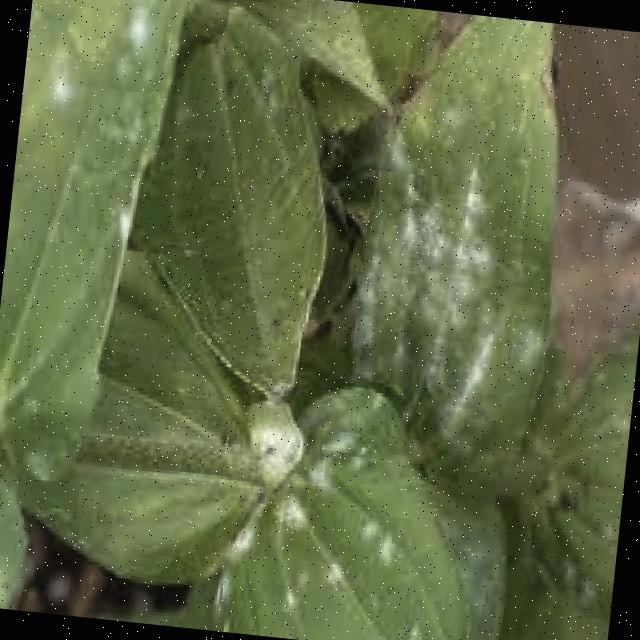Powdery_mildew_on_lettuce: (340, 110, 554, 468), (175, 378, 332, 610)
